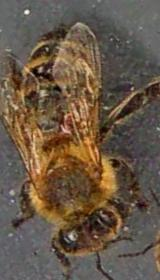varroa_mite: (54, 104, 88, 140)
